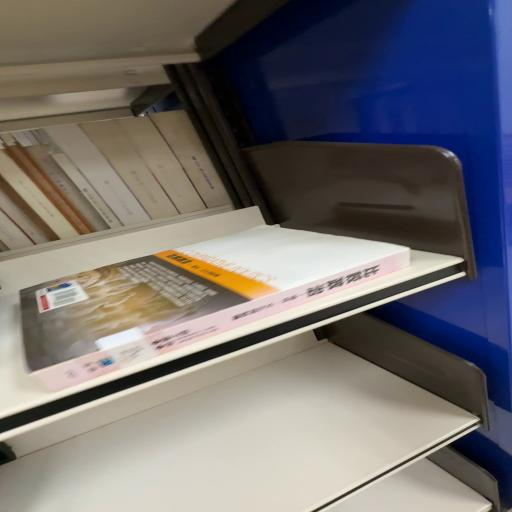flat: (20, 226, 411, 392)
